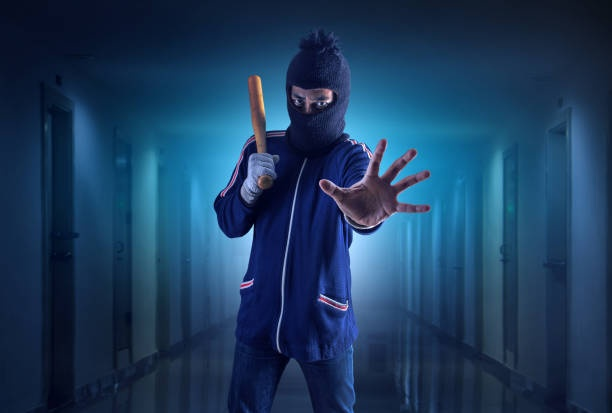bita: (248, 72, 275, 186)
